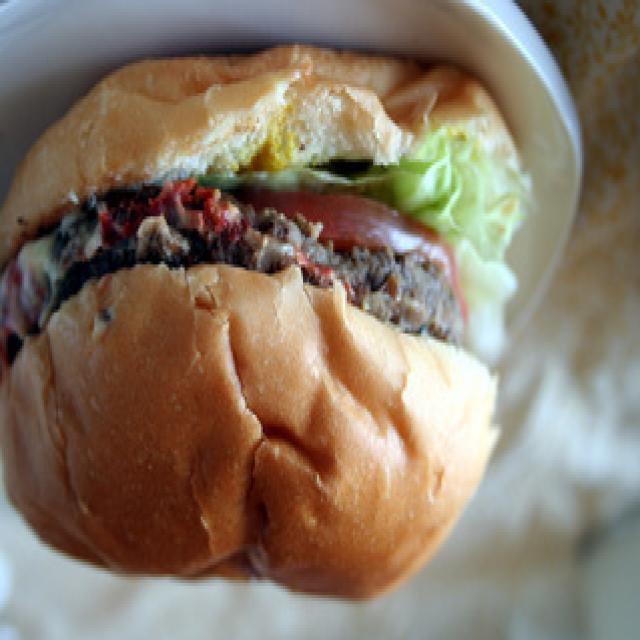Hamburger: (0, 21, 530, 616)
